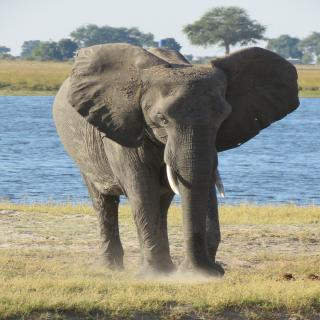Elephant: (48, 32, 304, 281)
